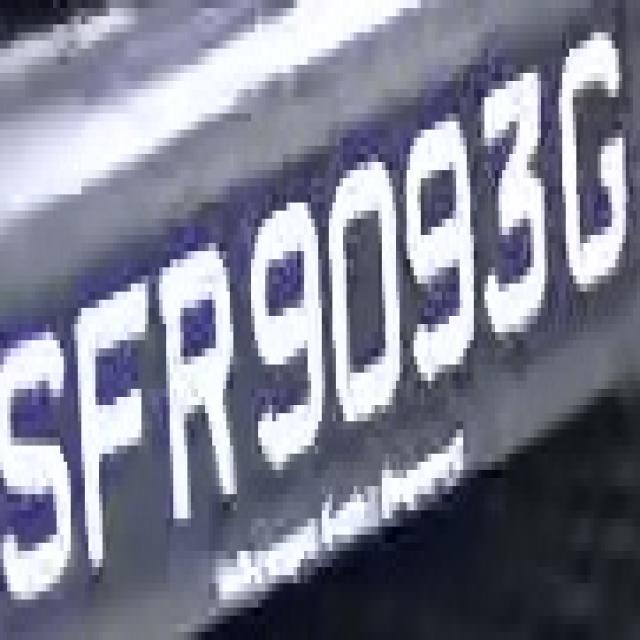0: (311, 154, 414, 429)
3: (467, 57, 548, 356)
9: (230, 170, 329, 486), (385, 105, 488, 405)
F: (71, 235, 159, 583)
G: (559, 24, 633, 316)
R: (152, 210, 244, 526)
S: (0, 267, 78, 632)
